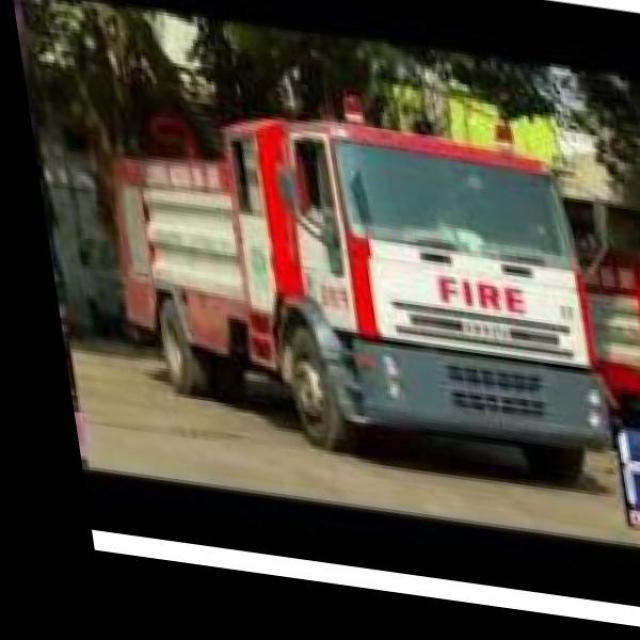emergency: (105, 88, 613, 480)
